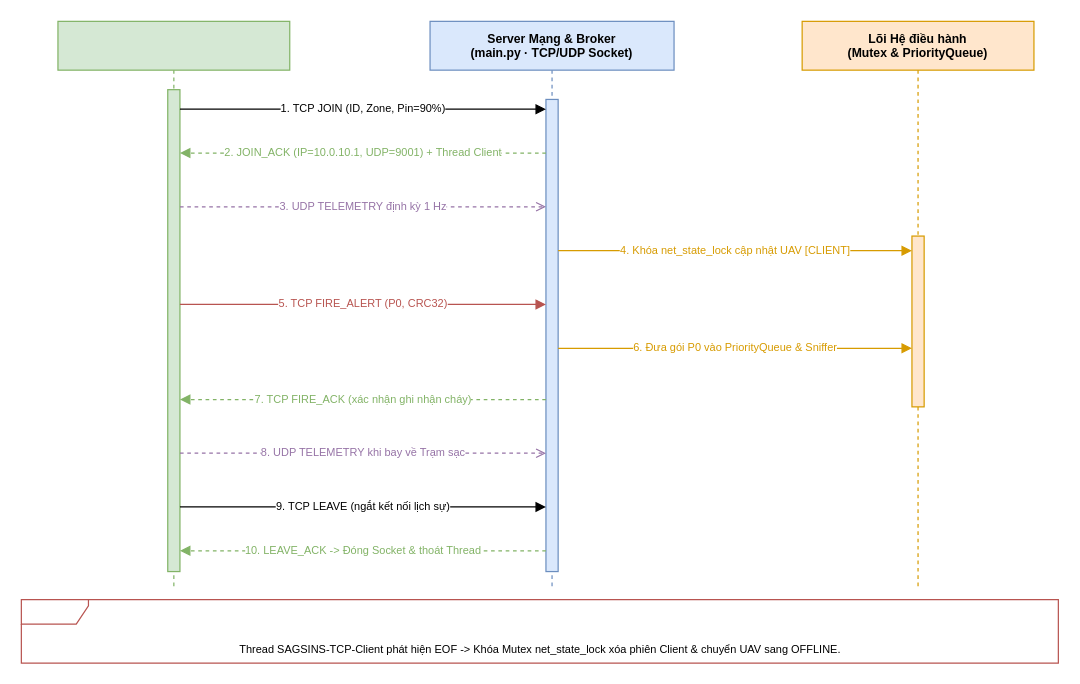
Some shapes in this 1080 by 684 pixel diagram are drawn without their labels. Each missing label, with the box of its shape:
opt: (20, 598, 1058, 663)
UAV Client (uav_client.py · PID riêng): (57, 20, 290, 590)
